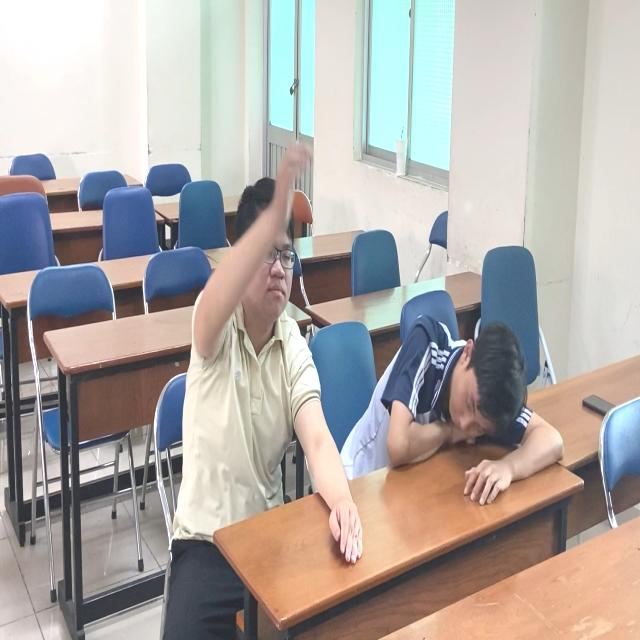raise_hand: (169, 133, 339, 552)
sleep: (353, 302, 573, 506)
